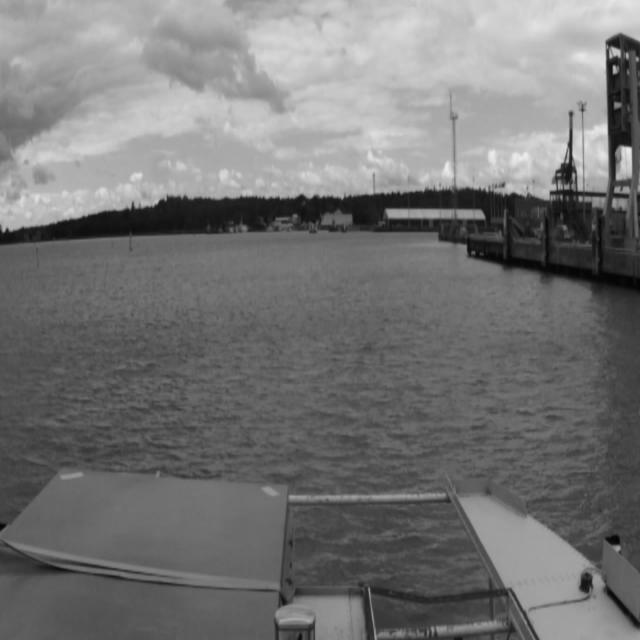buoy: (128, 231, 132, 253), (36, 248, 40, 268), (53, 238, 55, 245)
ship: (237, 223, 250, 231), (227, 224, 235, 234)
